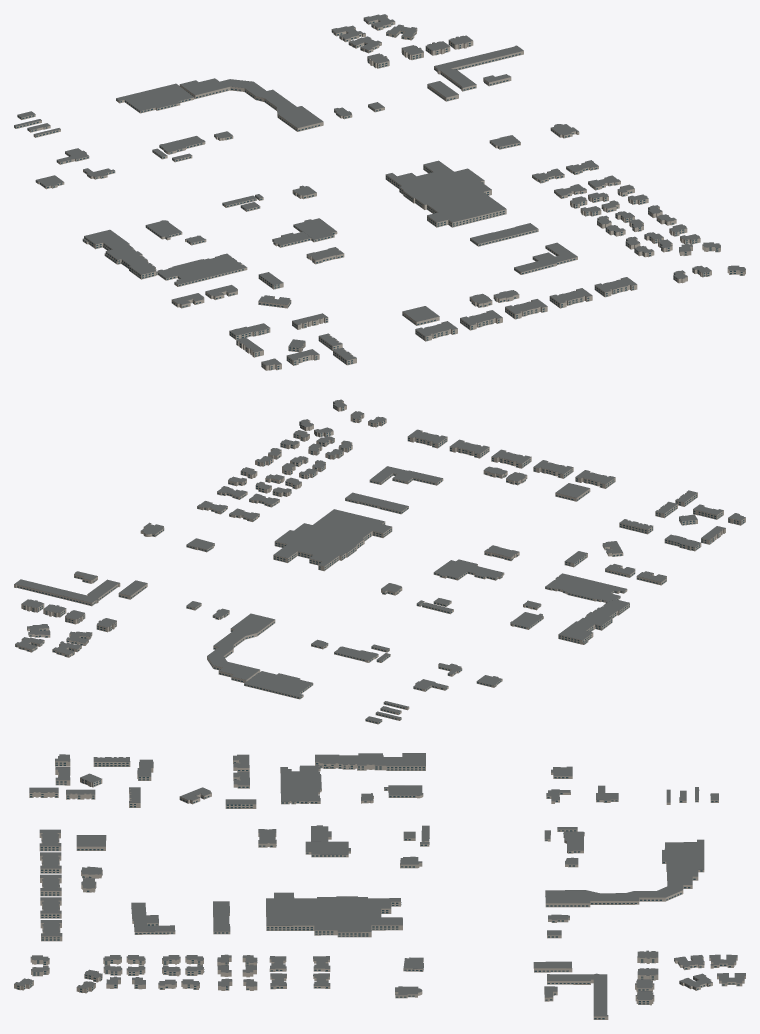
3 renders of one model, top to bottom at view 1: azimuth 30°, elevation 25°; view 2: azimuth 150°, elevation 25°; view 3: azimuth 270°, elevation 25°, orthographic. The views are drawn at different scales.
Parts seen in each view (by area): view 1: Buildings (4, -1) Roof membrane, Buildings (4, -1) Masonry brick, Buildings (4, -1) Architectural tinted glass, Buildings (4, -1) Metal coping; view 2: Buildings (4, -1) Roof membrane, Buildings (4, -1) Masonry brick, Buildings (4, -1) Architectural tinted glass, Buildings (4, -1) Metal coping; view 3: Buildings (4, -1) Roof membrane, Buildings (4, -1) Masonry brick, Buildings (4, -1) Architectural tinted glass, Buildings (4, -1) Metal coping.
Boxes of the visible parts, left/top/right/bottom form: Buildings (4, -1) Roof membrane: left=14, top=14, right=745, bottom=365; Buildings (4, -1) Masonry brick: left=14, top=16, right=745, bottom=370; Buildings (4, -1) Architectural tinted glass: left=14, top=19, right=742, bottom=369; Buildings (4, -1) Metal coping: left=14, top=14, right=744, bottom=365; Buildings (4, -1) Roof membrane: left=14, top=399, right=745, bottom=721; Buildings (4, -1) Masonry brick: left=14, top=401, right=745, bottom=724; Buildings (4, -1) Architectural tinted glass: left=15, top=402, right=744, bottom=723; Buildings (4, -1) Metal coping: left=14, top=401, right=745, bottom=720; Buildings (4, -1) Roof membrane: left=14, top=753, right=745, bottom=1015; Buildings (4, -1) Masonry brick: left=14, top=758, right=745, bottom=1019; Buildings (4, -1) Architectural tinted glass: left=17, top=762, right=739, bottom=1019; Buildings (4, -1) Metal coping: left=14, top=753, right=745, bottom=1016.
Bounding box in the file's own units: 783 × 8.71 × 925.
